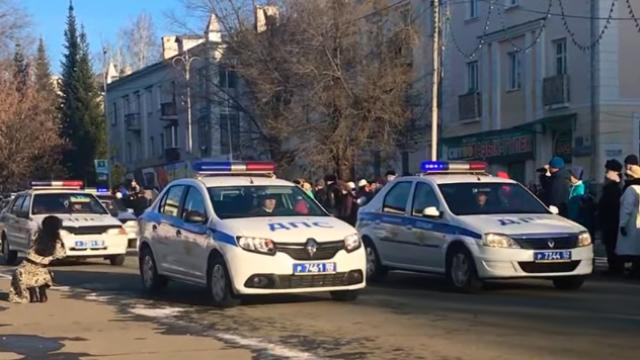police car: (139, 160, 369, 304), (359, 159, 595, 295)
